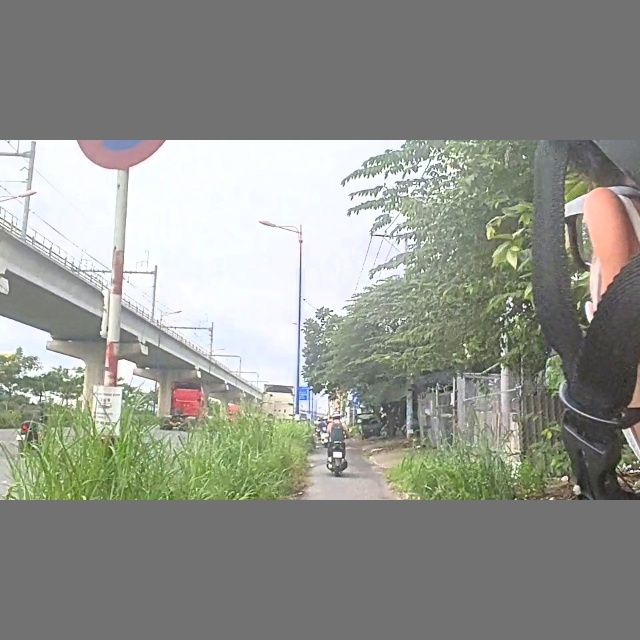I.409: (352, 394, 363, 405)
